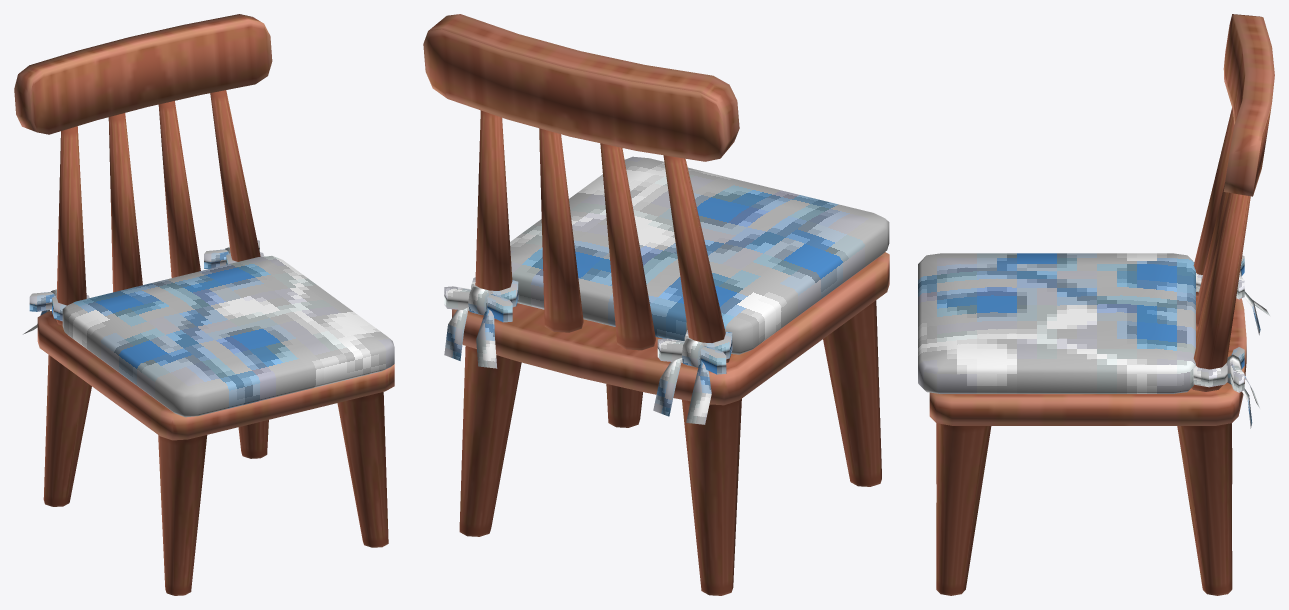
The model's file is rmk_scd_chairS.dae.
The picture shows the model from 3 angles, left to right: view 1: azimuth 30°, elevation 25°; view 2: azimuth 150°, elevation 25°; view 3: azimuth 270°, elevation 25°; orthographic projection. The views are drawn at different scales.
Parts seen in each view (by area): view 1: vsn_mesh_0_, vsn_mesh_1_; view 2: vsn_mesh_0_, vsn_mesh_1_; view 3: vsn_mesh_1_, vsn_mesh_0_.
Boxes of the visible parts, x1,y1,x2,y2 form: vsn_mesh_0_: [14, 14, 394, 595]; vsn_mesh_1_: [23, 240, 394, 417]; vsn_mesh_0_: [423, 14, 889, 595]; vsn_mesh_1_: [444, 156, 889, 424]; vsn_mesh_1_: [918, 253, 1270, 428]; vsn_mesh_0_: [929, 14, 1274, 595].
Bounding box in the file's own units: 21.09 × 35.03 × 24.27.
2 materials, 2 textured.
